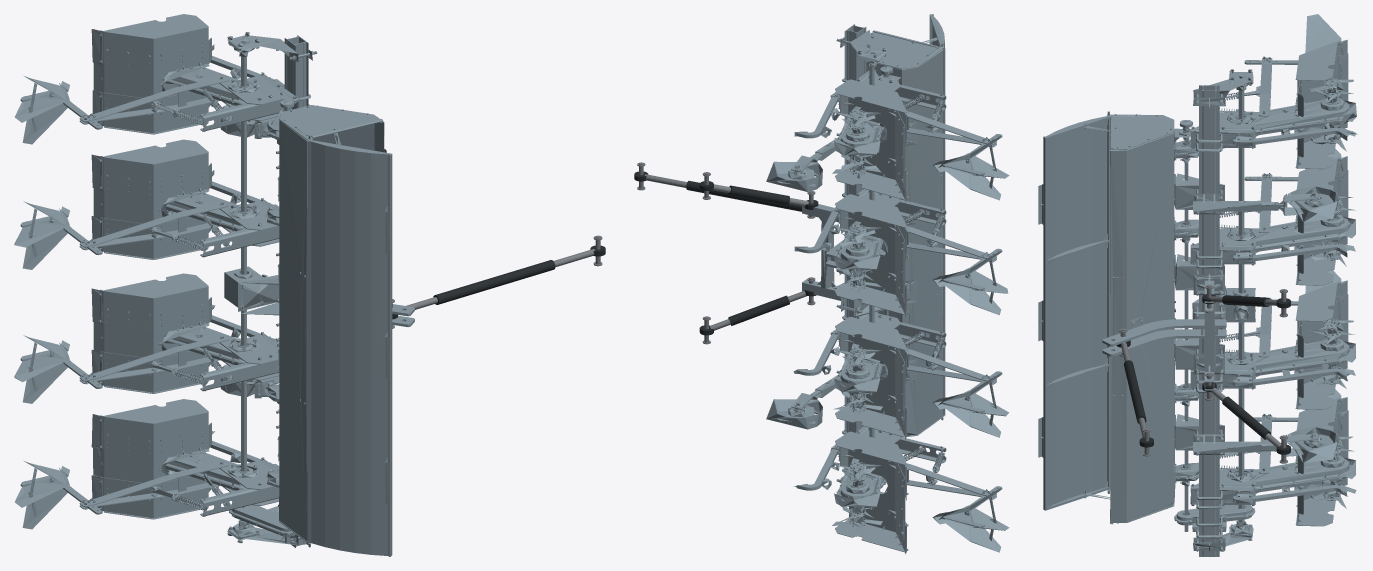
The model's file is implement_inter_row_milling_cutter_visual.obj.
3 renders of one model, left to right at view 1: azimuth 30°, elevation 25°; view 2: azimuth 150°, elevation 25°; view 3: azimuth 270°, elevation 25°, orthographic. The views are drawn at different scales.
Visible parts, largest first — view 1: solid_2715, solid_2696, solid_444, solid_2375, solid_1089, solid_1732, solid_2334, solid_1048, solid_403, solid_393, solid_2324, solid_1038 (+34 smaller); view 2: solid_2696, solid_1038, solid_2324, solid_393, solid_2698, solid_1681, solid_1088, solid_443, solid_1731, solid_2374, solid_2986, solid_1047 (+37 smaller); view 3: solid_2715, solid_2696, solid_0, solid_2718, solid_2698, solid_719, solid_74, solid_2634, solid_2005, solid_1362, solid_4, solid_3 (+46 smaller).
Boxes of the visible parts, x1,y1,x2,y2 form: solid_2715: [307, 141, 390, 556]; solid_2696: [279, 120, 384, 541]; solid_444: [100, 412, 208, 456]; solid_2375: [100, 153, 208, 197]; solid_1089: [100, 287, 208, 331]; solid_1732: [100, 27, 208, 71]; solid_2334: [100, 217, 208, 258]; solid_1048: [100, 351, 208, 392]; solid_403: [100, 476, 208, 518]; solid_393: [100, 422, 211, 495]; solid_2324: [100, 163, 211, 236]; solid_1038: [100, 297, 211, 370]; solid_2696: [866, 49, 943, 435]; solid_1038: [840, 332, 905, 426]; solid_2324: [840, 210, 905, 303]; solid_393: [840, 447, 905, 540]; solid_2698: [870, 30, 943, 69]; solid_1681: [840, 95, 905, 188]; solid_1088: [835, 317, 906, 350]; solid_443: [835, 431, 906, 465]; solid_1731: [835, 79, 906, 112]; solid_2374: [835, 194, 906, 227]; solid_2986: [766, 399, 822, 429]; solid_1047: [835, 404, 906, 437]; solid_2715: [1043, 115, 1107, 509]; solid_2696: [1110, 133, 1175, 522]; solid_0: [1202, 85, 1216, 556]; solid_2718: [1044, 116, 1110, 510]; solid_2698: [1110, 115, 1174, 149]; solid_719: [1233, 338, 1353, 372]; solid_74: [1232, 455, 1353, 489]; solid_2634: [1238, 90, 1244, 525]; solid_2005: [1233, 214, 1353, 248]; solid_1362: [1235, 97, 1349, 132]; solid_4: [1199, 89, 1202, 556]; solid_3: [1216, 90, 1219, 556].
Bounding box in the file's own units: 3.12 × 3 × 1.87.
